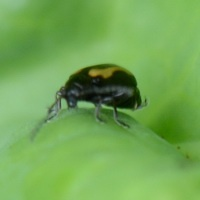insect: (32, 64, 140, 137)
